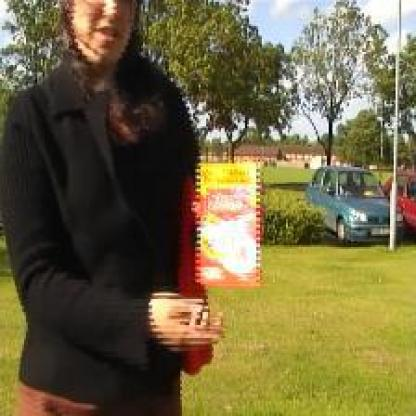other: (179, 159, 260, 363)
